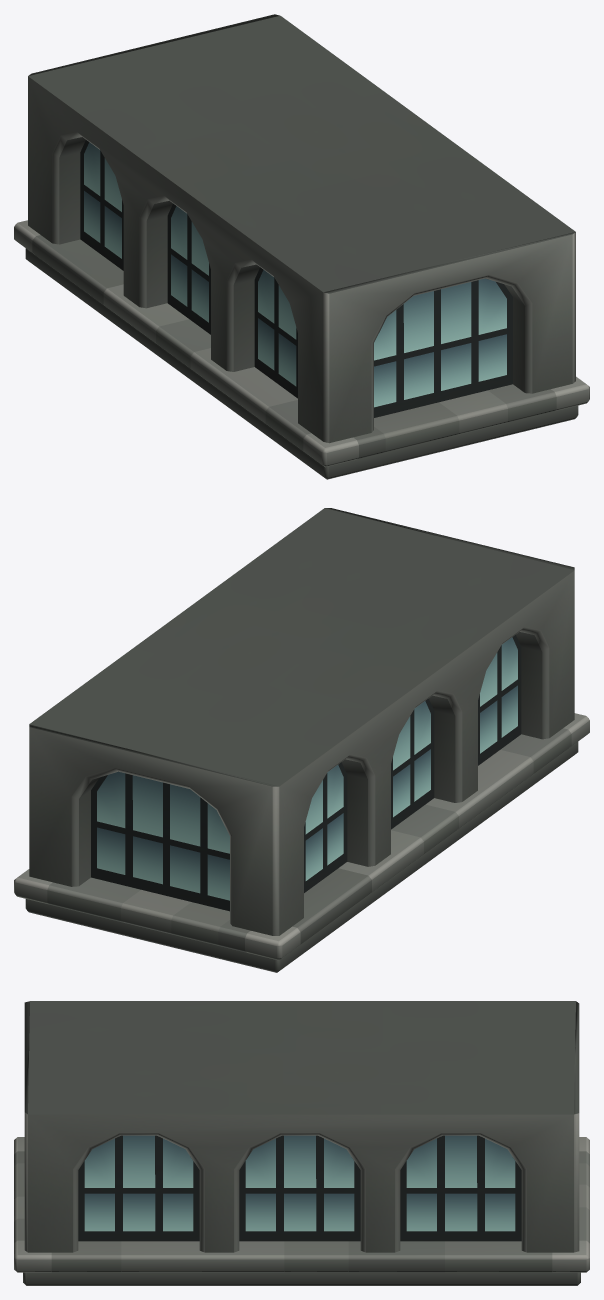
File: office_building_type2_single_floor1_grey.fbx
The picture shows the model from 3 angles, top to bottom: view 1: azimuth 30°, elevation 25°; view 2: azimuth 150°, elevation 25°; view 3: azimuth 270°, elevation 25°; orthographic projection. The views are drawn at different scales.
Parts seen in each view (by area): view 1: office_building_type2_single_floor1_grey; view 2: office_building_type2_single_floor1_grey; view 3: office_building_type2_single_floor1_grey.
Part boxes in pixels (x1=…): office_building_type2_single_floor1_grey: x1=14, y1=14, x2=589, y2=479; office_building_type2_single_floor1_grey: x1=14, y1=508, x2=589, y2=972; office_building_type2_single_floor1_grey: x1=14, y1=1001, x2=589, y2=1285.
Size of the model in its own units: 800 by 531 by 1610.
